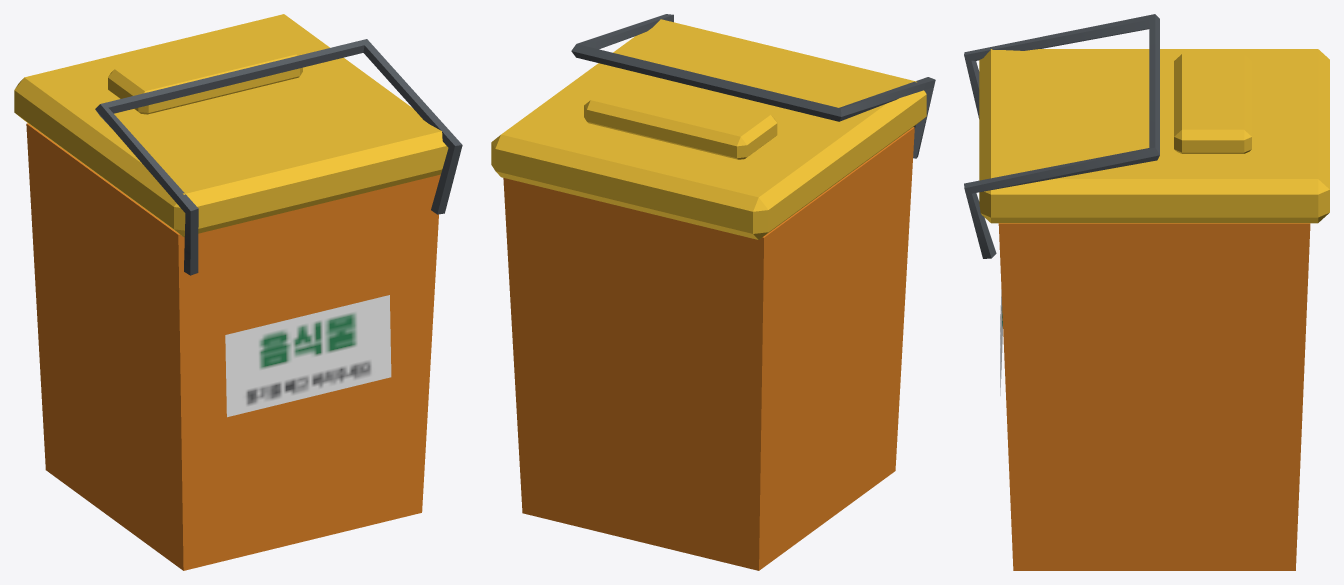
File: SC_Util_FoodWaste_Bin_Orange.gltf
The picture shows the model from 3 angles, left to right: view 1: azimuth 30°, elevation 25°; view 2: azimuth 150°, elevation 25°; view 3: azimuth 270°, elevation 25°; orthographic projection. The views are drawn at different scales.
Parts seen in each view (by area): view 1: SC_Util_FoodWaste_Bin_Orange; view 2: SC_Util_FoodWaste_Bin_Orange; view 3: SC_Util_FoodWaste_Bin_Orange.
Part boxes in pixels (x1,y1,x2,y2): SC_Util_FoodWaste_Bin_Orange: (14,14,462,570); SC_Util_FoodWaste_Bin_Orange: (491,14,935,570); SC_Util_FoodWaste_Bin_Orange: (964,14,1329,570).
Bounding box in the file's own units: 0.34 × 0.4877 × 0.3756.
2 materials, 2 textured.
